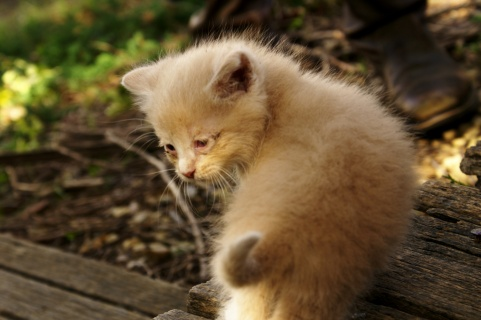Cat: (97, 19, 427, 319)
